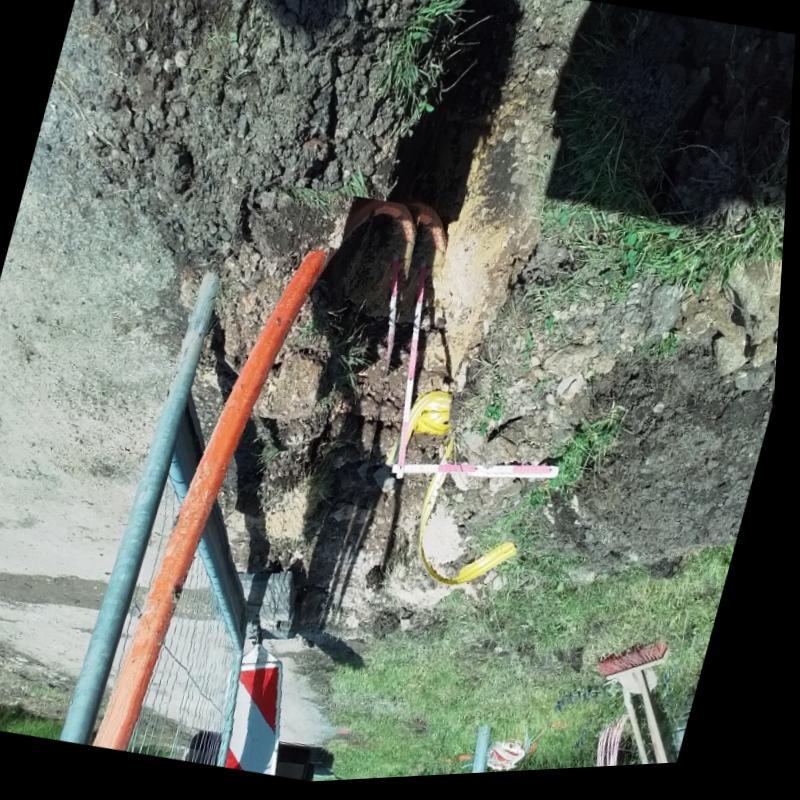Orang-Speednetrohrchen: (115, 207, 425, 712)
